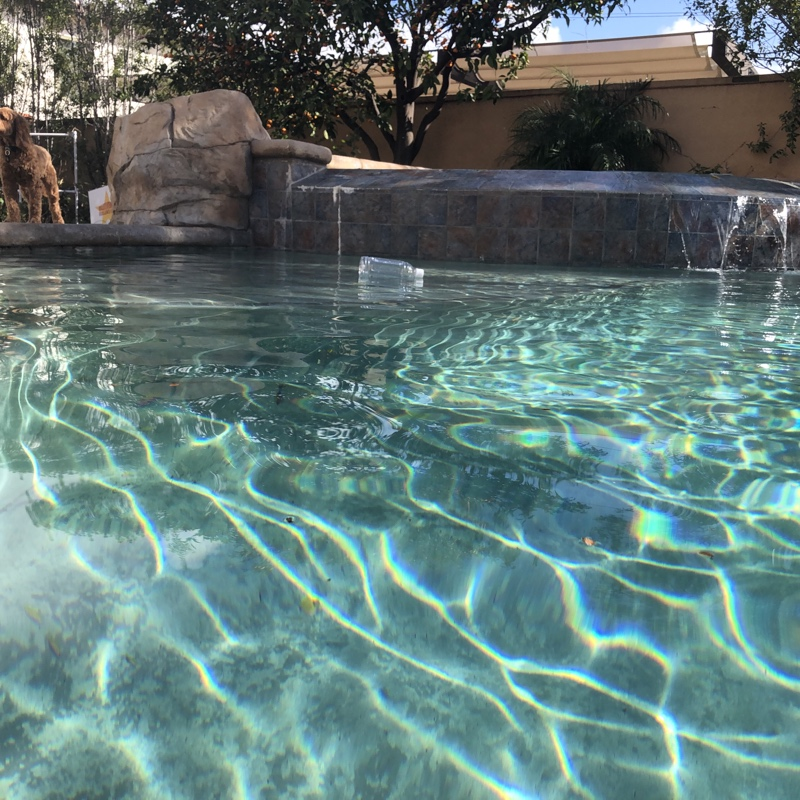Plastic Bottle: (349, 254, 426, 292)
